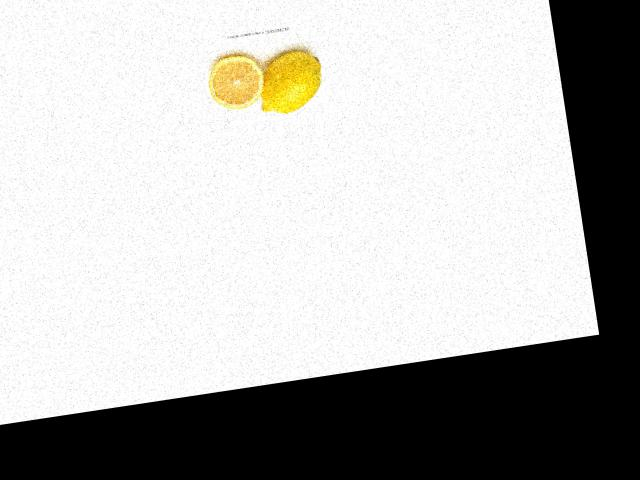lemon: (253, 45, 332, 117)
